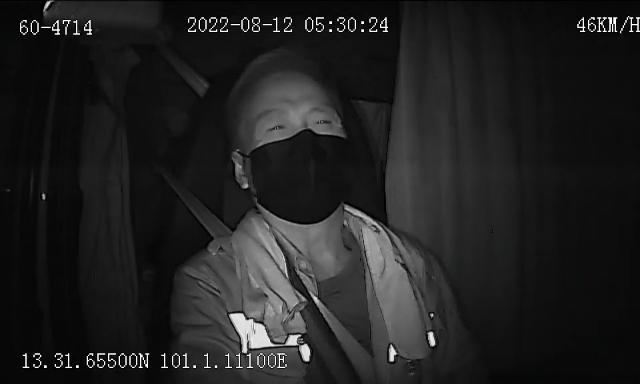SafeDriving: (304, 110, 338, 132), (262, 116, 292, 136)
Seatbelt: (154, 149, 262, 293)
